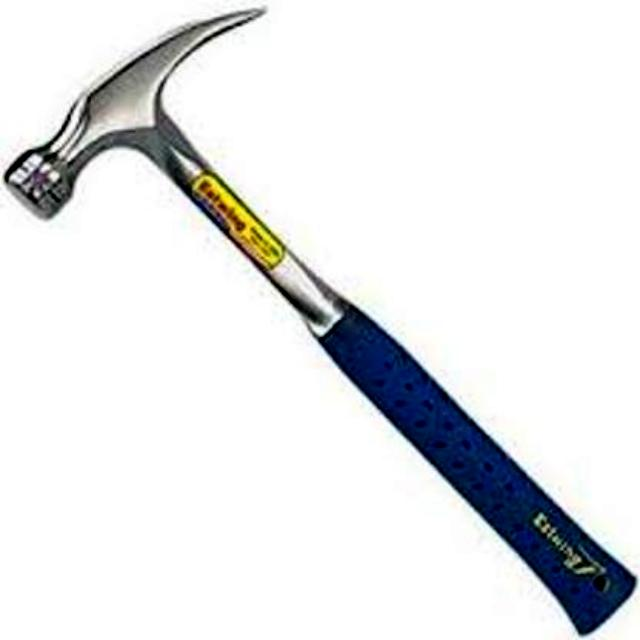hammer: (6, 0, 640, 636)
